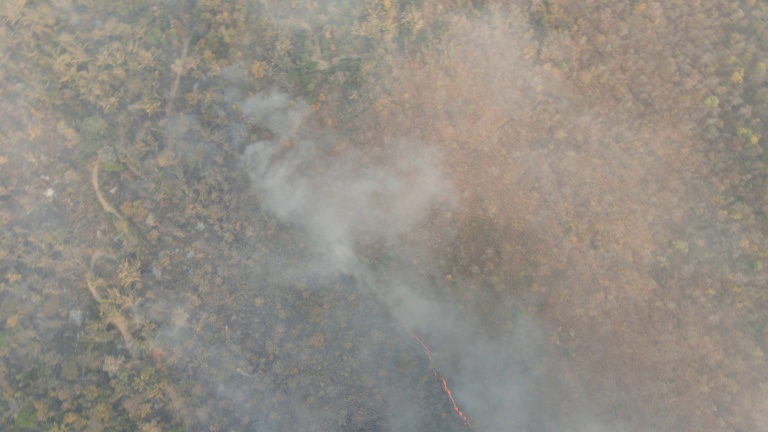fire: (405, 334, 472, 432)
smoke: (230, 99, 457, 302), (431, 301, 560, 422)
